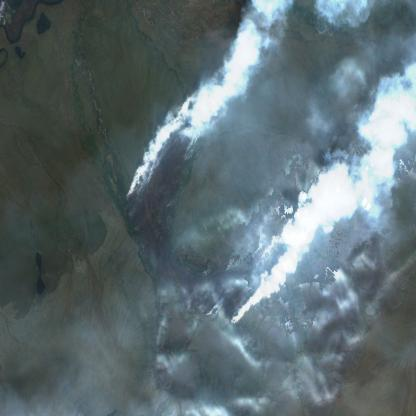fire: (182, 299, 218, 324), (176, 140, 196, 172), (224, 307, 245, 335), (122, 179, 143, 206), (248, 238, 263, 266)
